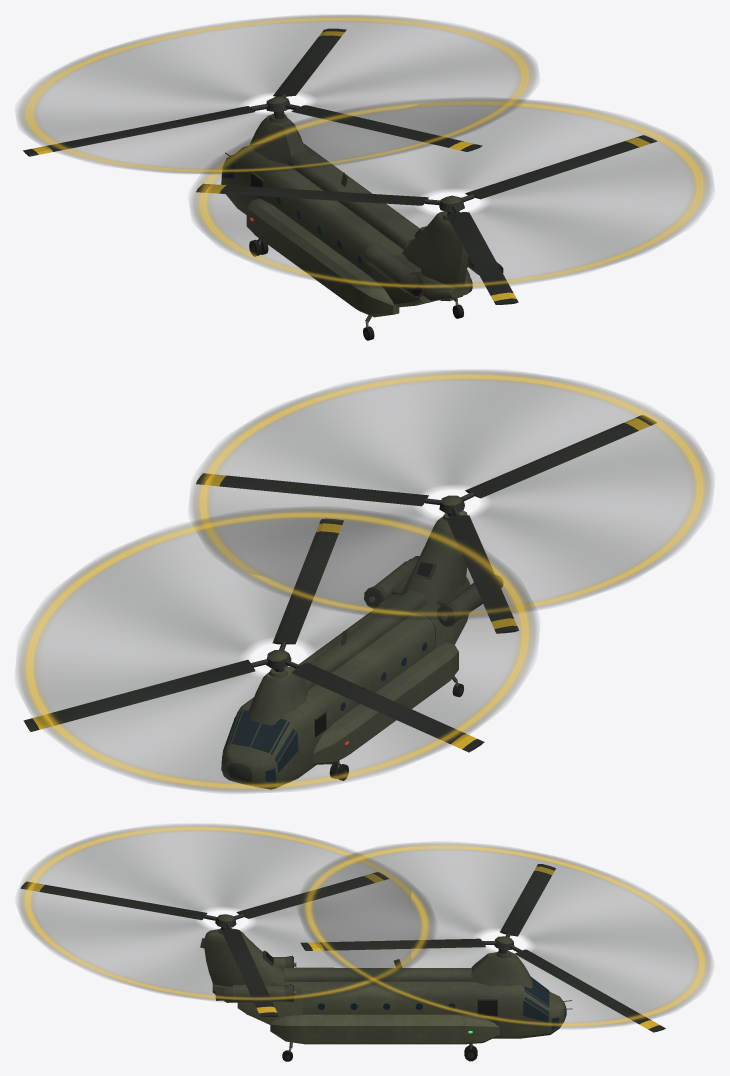
3 views of the same model, one above another, from view 1: azimuth 30°, elevation 25°; view 2: azimuth 150°, elevation 25°; view 3: azimuth 270°, elevation 25° (orthographic). The views are drawn at different scales.
Visible parts, largest first — view 1: RearRotorBlur, FrontRotorBlur, Fuselage, RearRotor, FrontRotor; view 2: FrontRotorBlur, RearRotorBlur, Fuselage, FrontRotor, RearRotor; view 3: FrontRotorBlur, RearRotorBlur, Fuselage, RearRotor, FrontRotor.
Part boxes in pixels (left/top/right/bottom): RearRotorBlur: left=190, top=98, right=713, bottom=290; FrontRotorBlur: left=16, top=15, right=538, bottom=173; Fuselage: left=221, top=113, right=503, bottom=340; RearRotor: left=196, top=135, right=657, bottom=304; FrontRotor: left=23, top=28, right=482, bottom=156; FrontRotorBlur: left=16, top=507, right=538, bottom=792; RearRotorBlur: left=190, top=370, right=713, bottom=619; Fuselage: left=221, top=510, right=502, bottom=789; FrontRotor: left=23, top=518, right=484, bottom=752; RearRotor: left=196, top=415, right=656, bottom=633; FrontRotorBlur: left=298, top=842, right=712, bottom=1028; RearRotorBlur: left=17, top=824, right=435, bottom=1002; Fuselage: left=200, top=928, right=572, bottom=1061; RearRotor: left=20, top=872, right=388, bottom=1016; FrontRotor: left=300, top=864, right=665, bottom=1032.
Bounding box in the file's own units: 18.29 × 6.8 × 30.13.
Materials: 17 (4 with a texture image).
